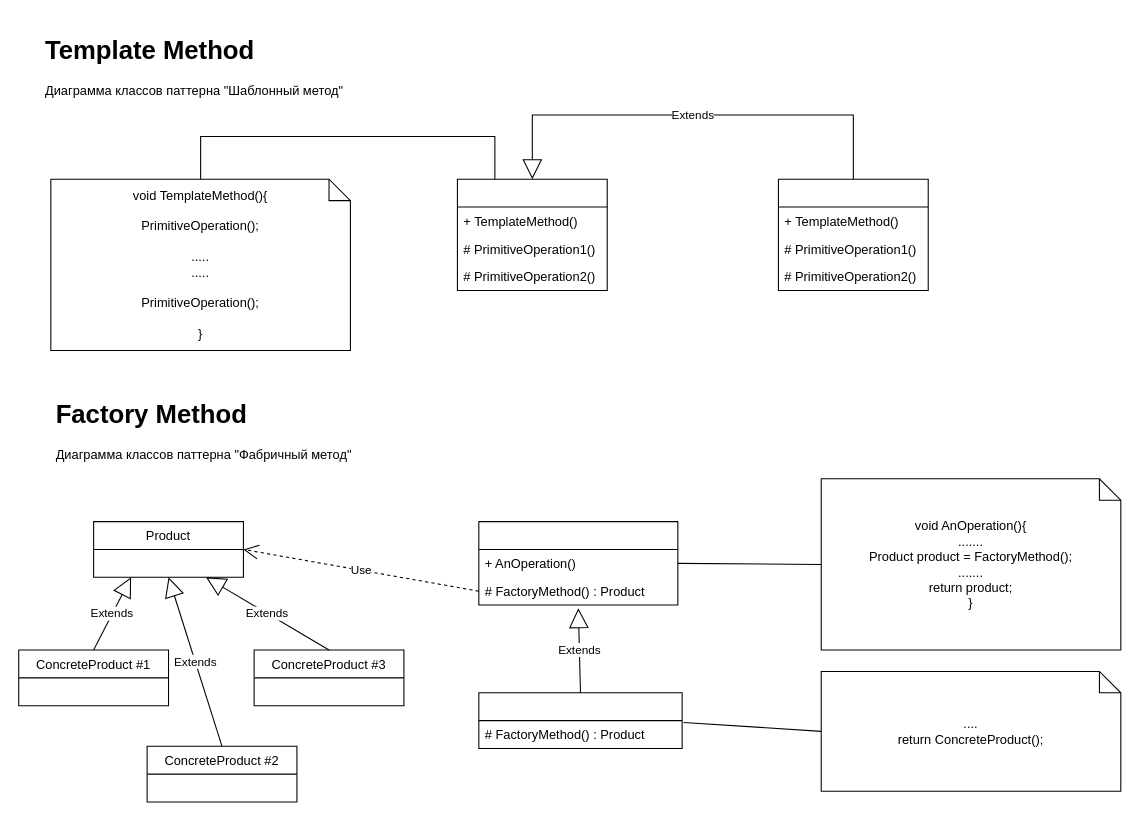
This 1140x821 diagram has some shape labels left out. Here are the shapes that lost their labels. From the top down, the box of each, then its label:
(456, 178, 607, 291): AbstractClass
(777, 178, 928, 291): ConcreteClass
(478, 521, 678, 605): AbstractClassCreator
(478, 692, 682, 748): ConcreteClassCreator
